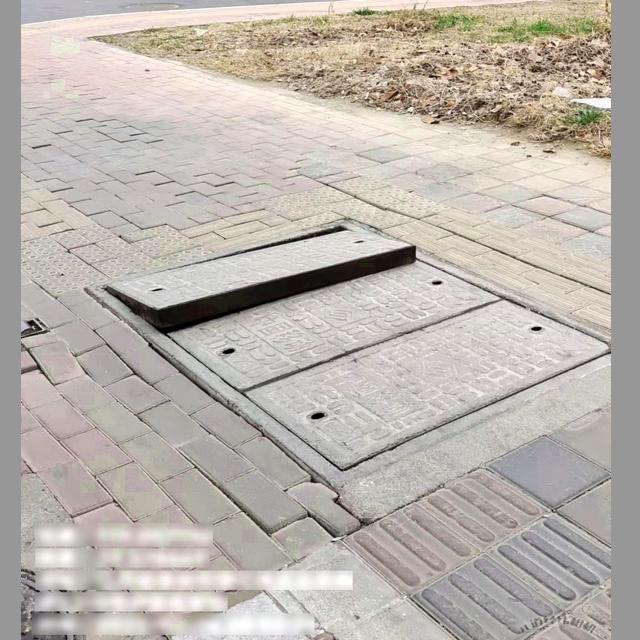uncovered: (83, 218, 611, 484)
